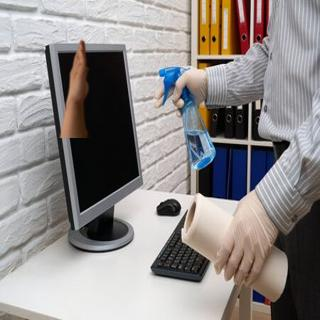RIGHT: (58, 35, 94, 107)
